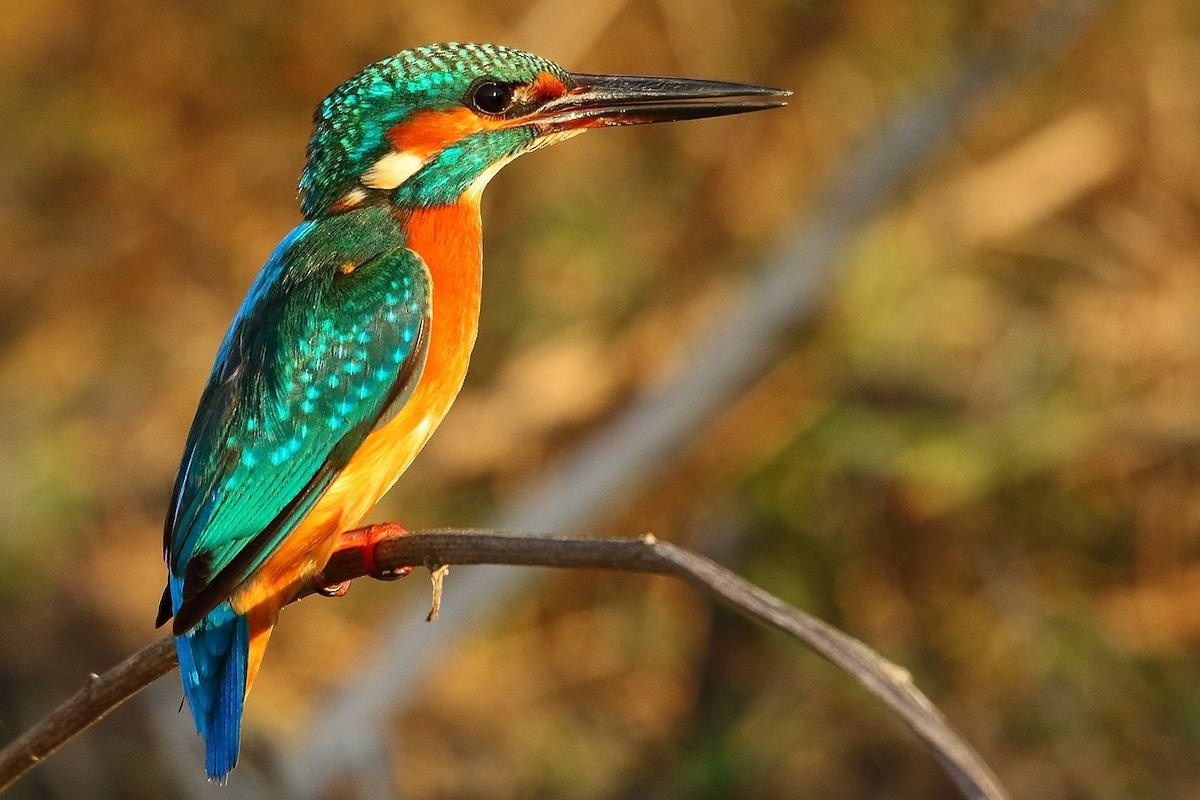kingfisher: (123, 33, 807, 751)
